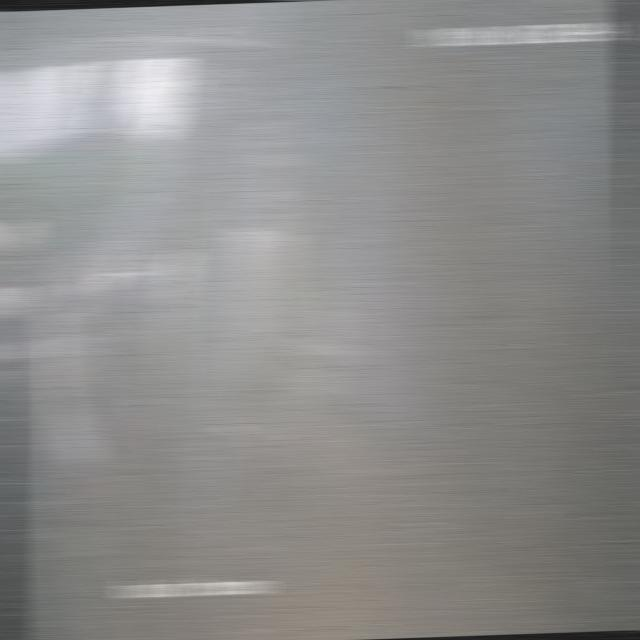cement_mixer_truck: (43, 207, 356, 514)
